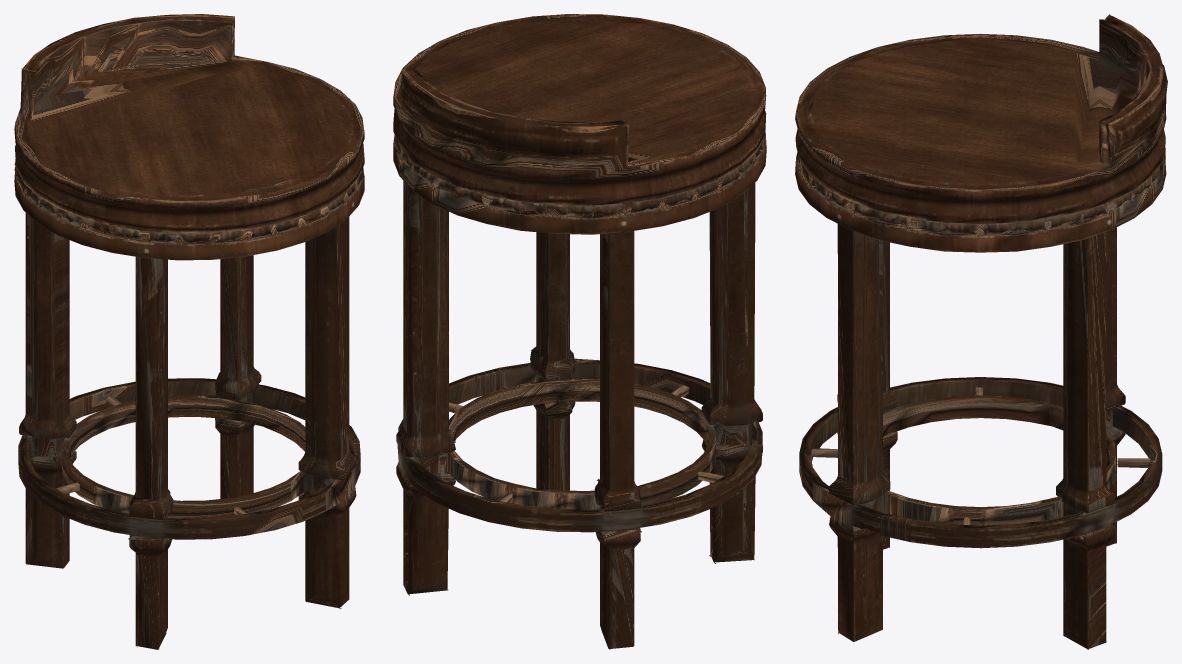
Rendered from bar_chair_round_01.glb.
3 views of the same model, side by side, from view 1: azimuth 30°, elevation 25°; view 2: azimuth 150°, elevation 25°; view 3: azimuth 270°, elevation 25° (orthographic). The views are drawn at different scales.
Visible parts, largest first — view 1: bar_chair_round_01; view 2: bar_chair_round_01; view 3: bar_chair_round_01.
Boxes of the visible parts, box(x1,y1,x2,y2) form: bar_chair_round_01: box(14, 14, 364, 649); bar_chair_round_01: box(393, 14, 766, 649); bar_chair_round_01: box(795, 14, 1167, 649).
Size of the model in its own units: 0.4832 by 0.7505 by 0.4852.
1 material, 1 textured.
